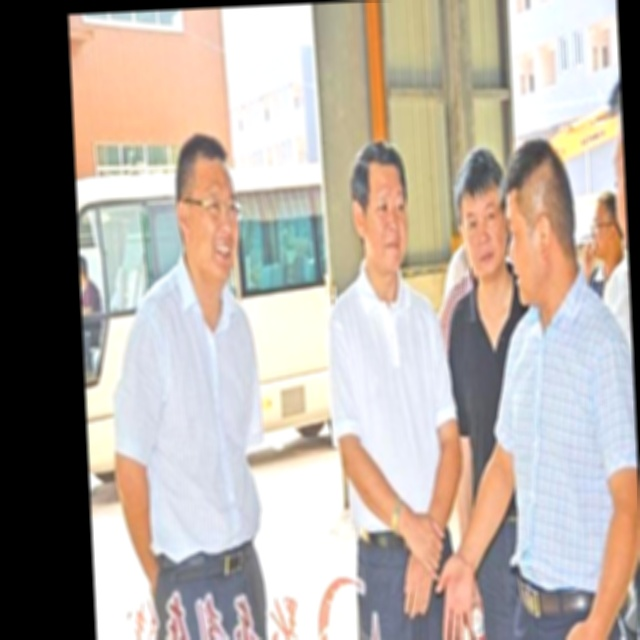Sin_Casco_Mascarrilla: (504, 141, 578, 304), (176, 138, 242, 288), (351, 134, 411, 270)
